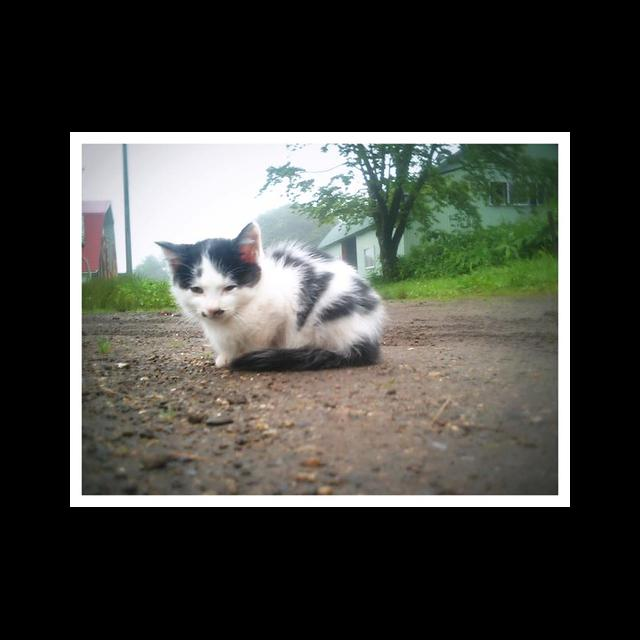animals: (155, 222, 258, 314)
